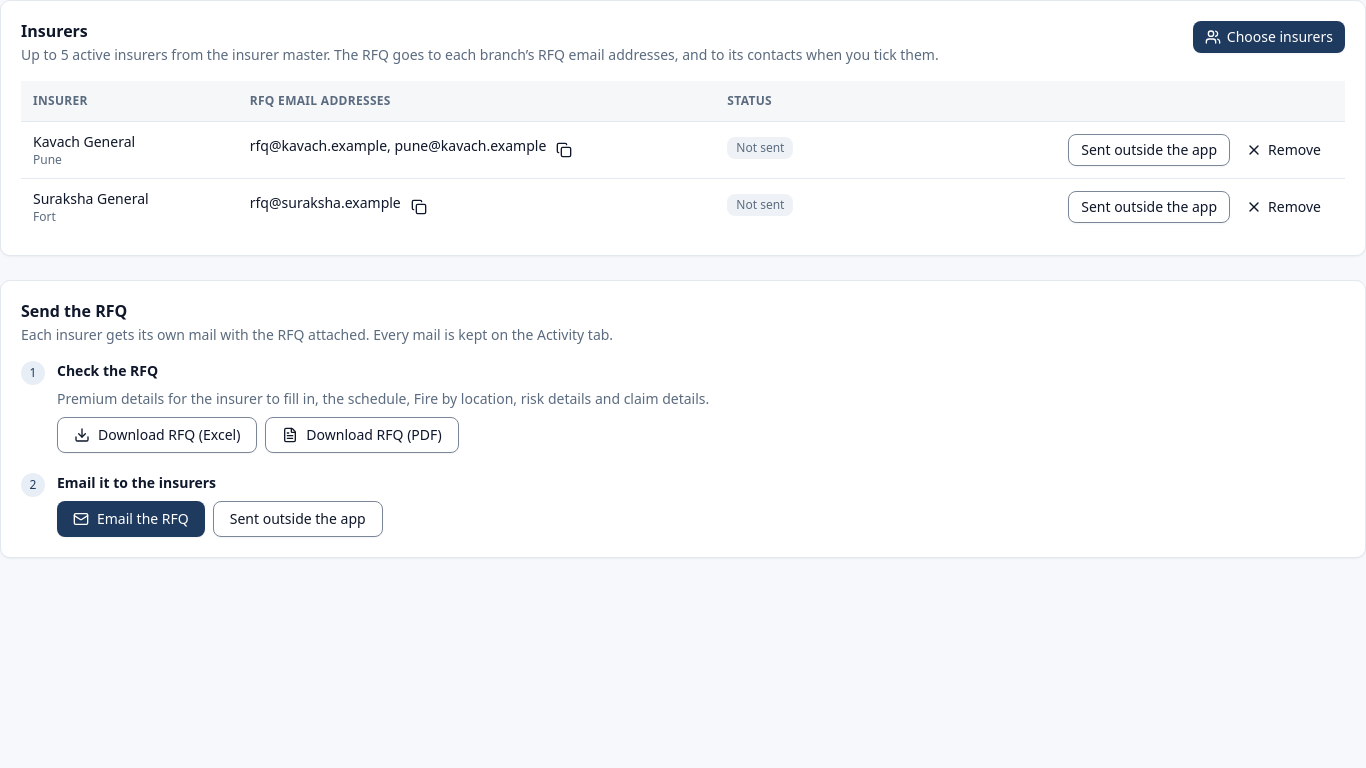
Scenario: Email the RFQ › ticks RFQ addresses, not contacts, previews each mail and retries a failure with a new send id
The width and height of the screenshot is (1366, 768).
Click the button "Email the RFQ" at [131, 518], box [57, 500, 205, 536]
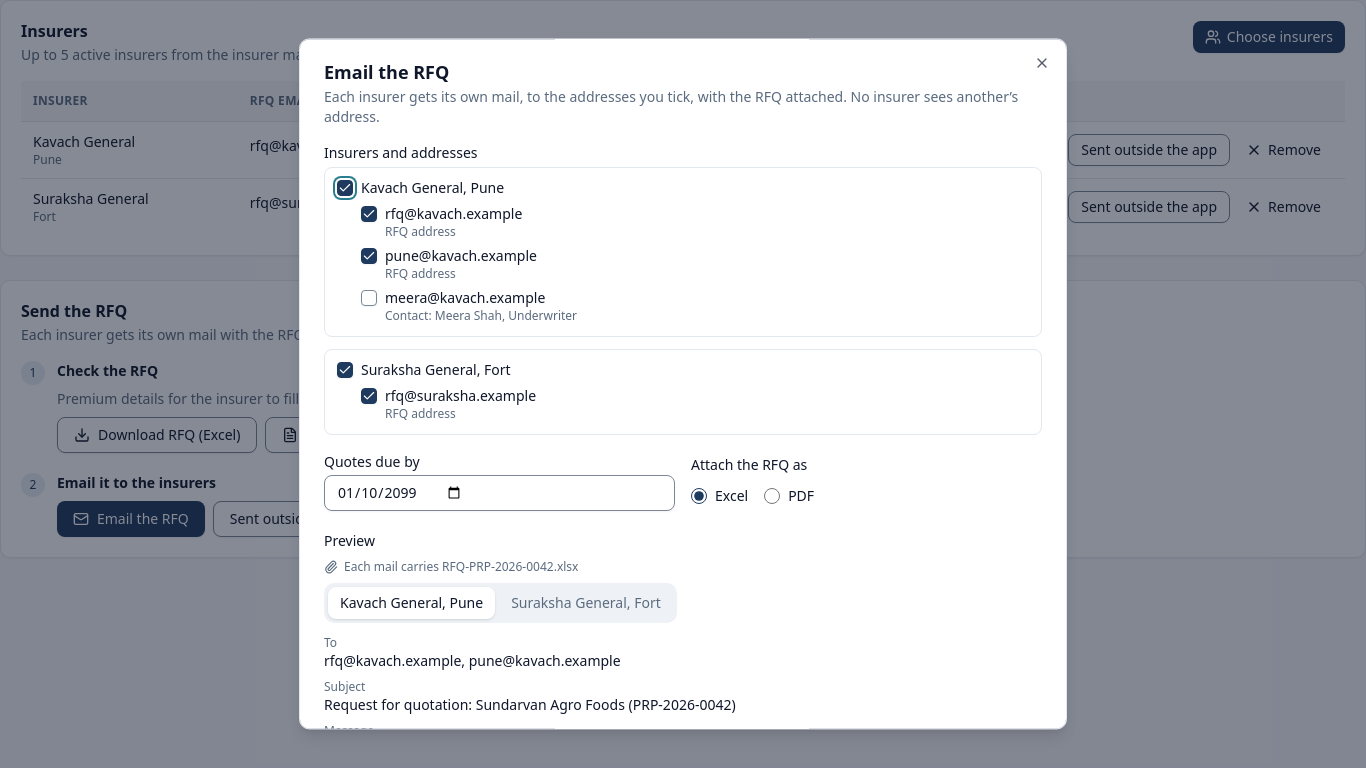
Now the 2nd checkbox named "rfq@kavach.example" is checked, box [361, 206, 377, 222]
Now the 3rd checkbox named "pune@kavach.example" is checked, box [361, 248, 377, 264]
Now the checkbox named "meera@kavach.example" next to "meera@kavach.example" is not checked
Click the checkbox named "meera@kavach.example" next to "meera@kavach.example" at [369, 298], box [361, 290, 377, 306]
(page scrolled)
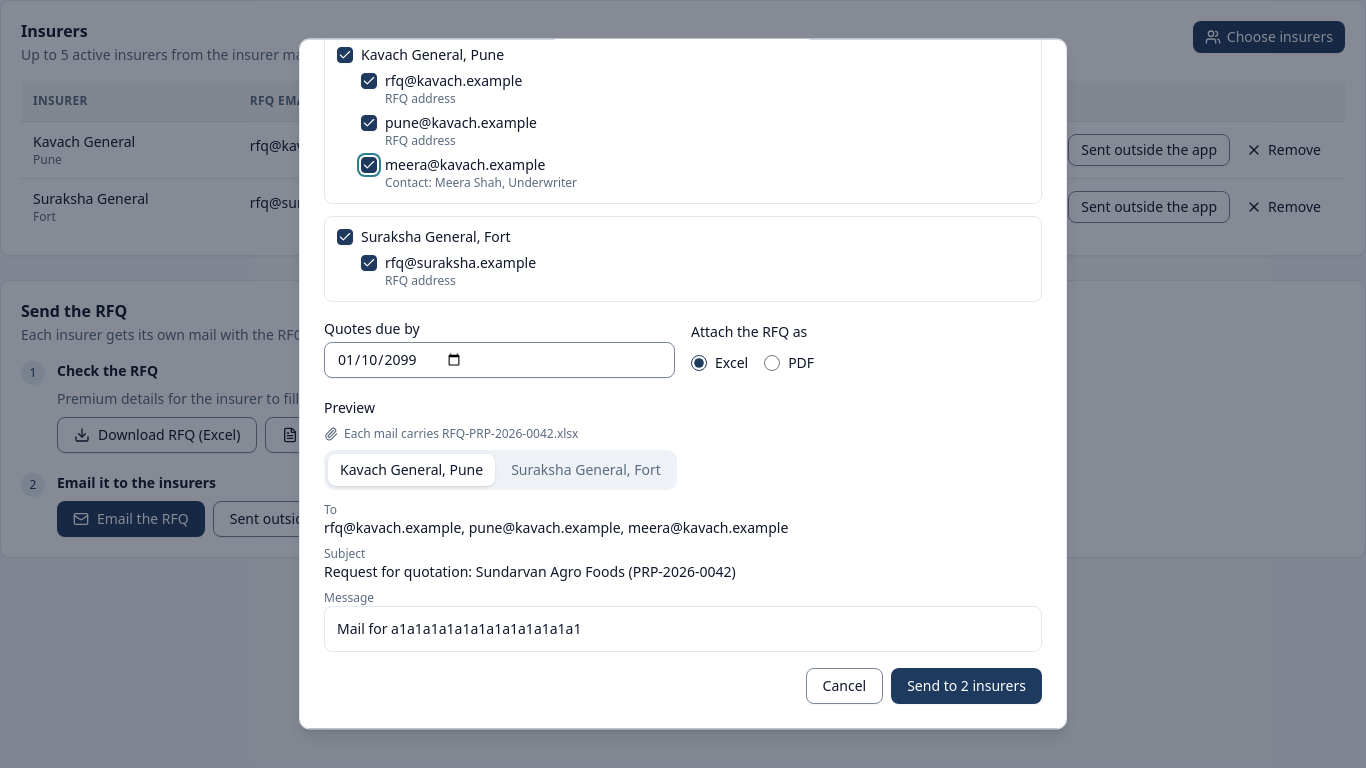
Click the button "Send to 2 insurers" at [967, 686], box [891, 668, 1042, 704]
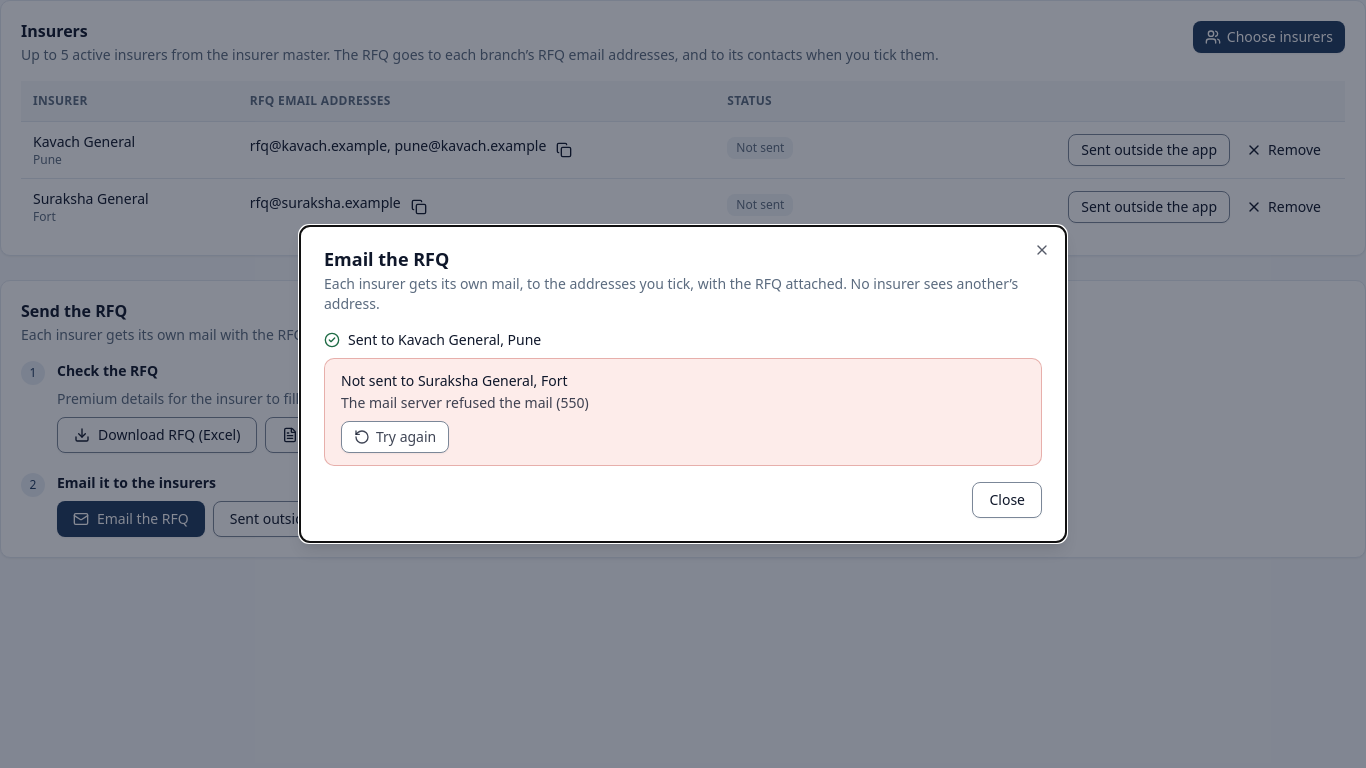
Now the text "Sent to Kavach General, Pune" is shown, box [348, 330, 541, 350]
Now the text "Not sent to Suraksha General, Fort" is shown, box [341, 371, 568, 390]
Now the text "The mail server refused the mail (550)" is shown, box [341, 393, 589, 413]
Click the button with aria-label "Try again for Suraksha General, Fort" at [395, 437], box [341, 421, 449, 453]
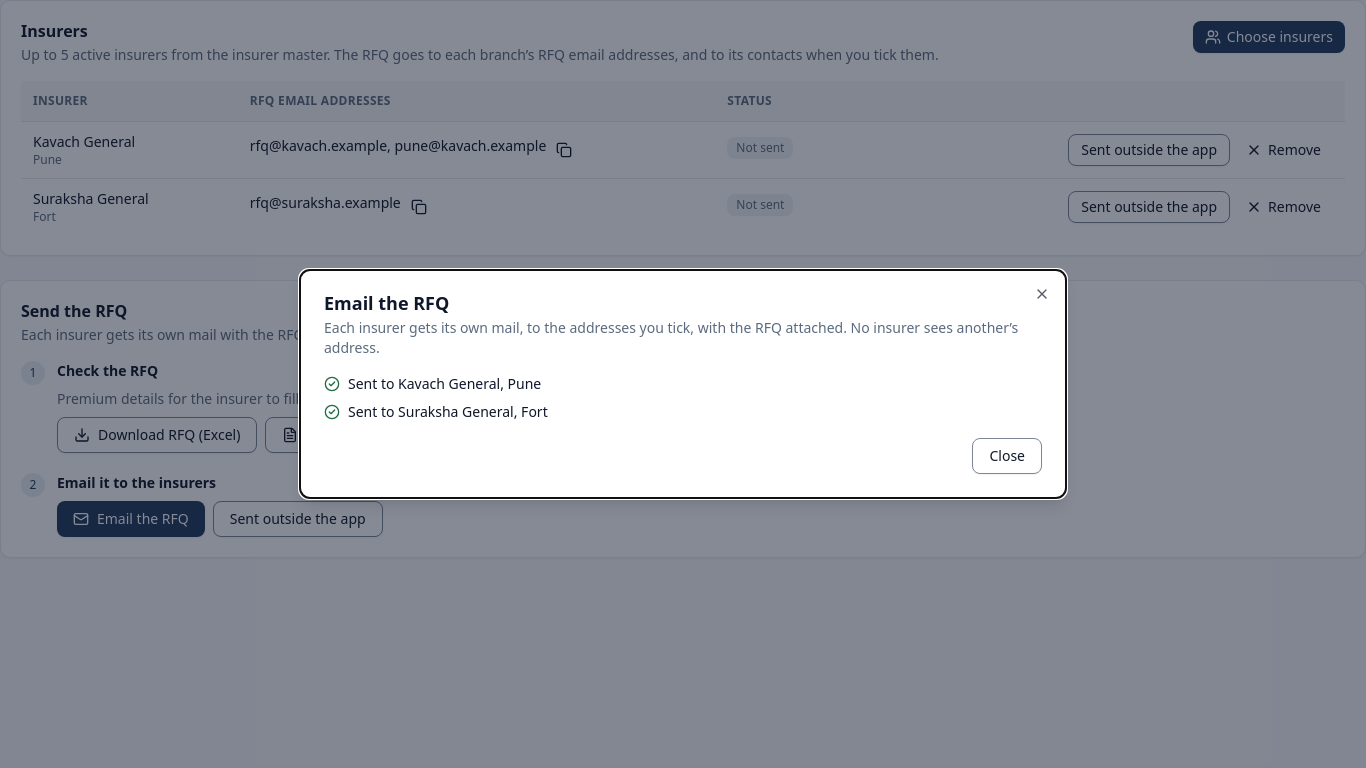
Now the text "Sent to Suraksha General, Fort" is shown, box [348, 402, 548, 422]
